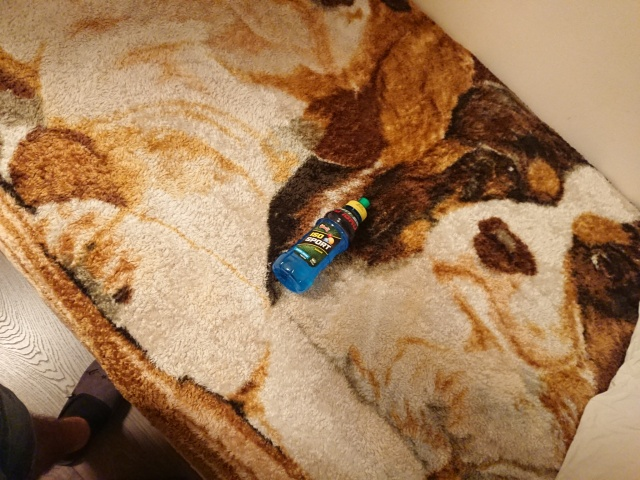Vindi Iso Sport Forest Strawberries 500mL: (269, 196, 373, 294)
